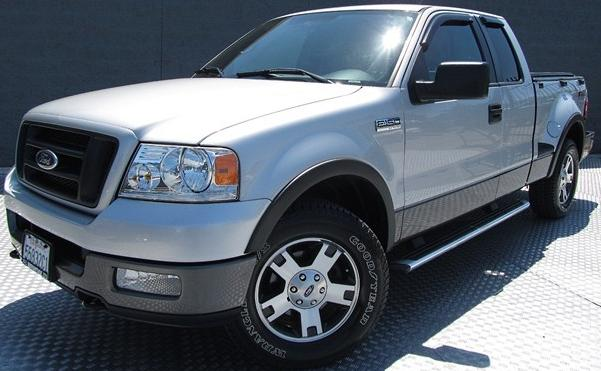front_view: (7, 107, 264, 333)
headlight: (127, 124, 267, 230)
side_glass: (416, 21, 526, 94)
